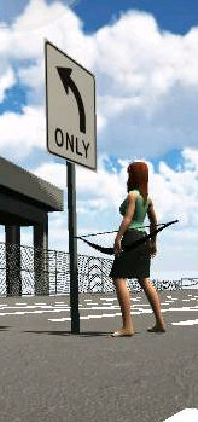arrow_left: (51, 65, 89, 134)
